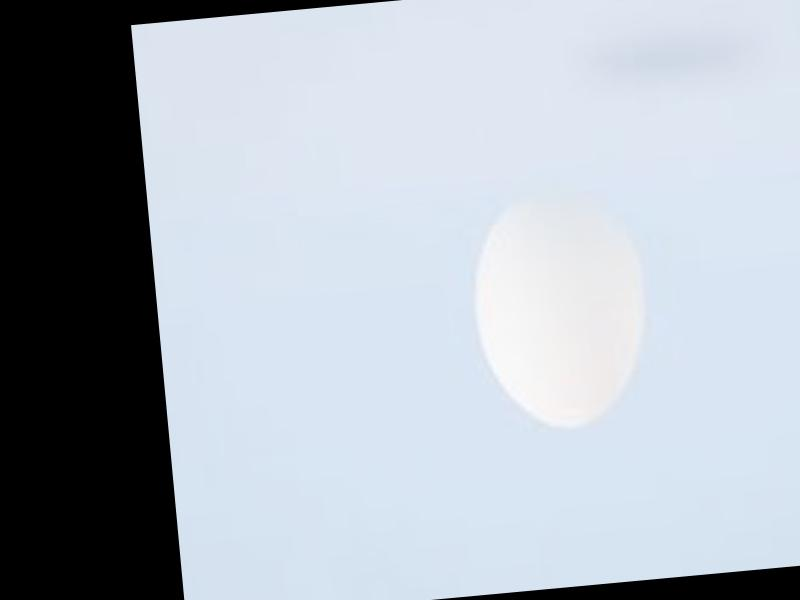Eggs: (464, 182, 657, 436)
